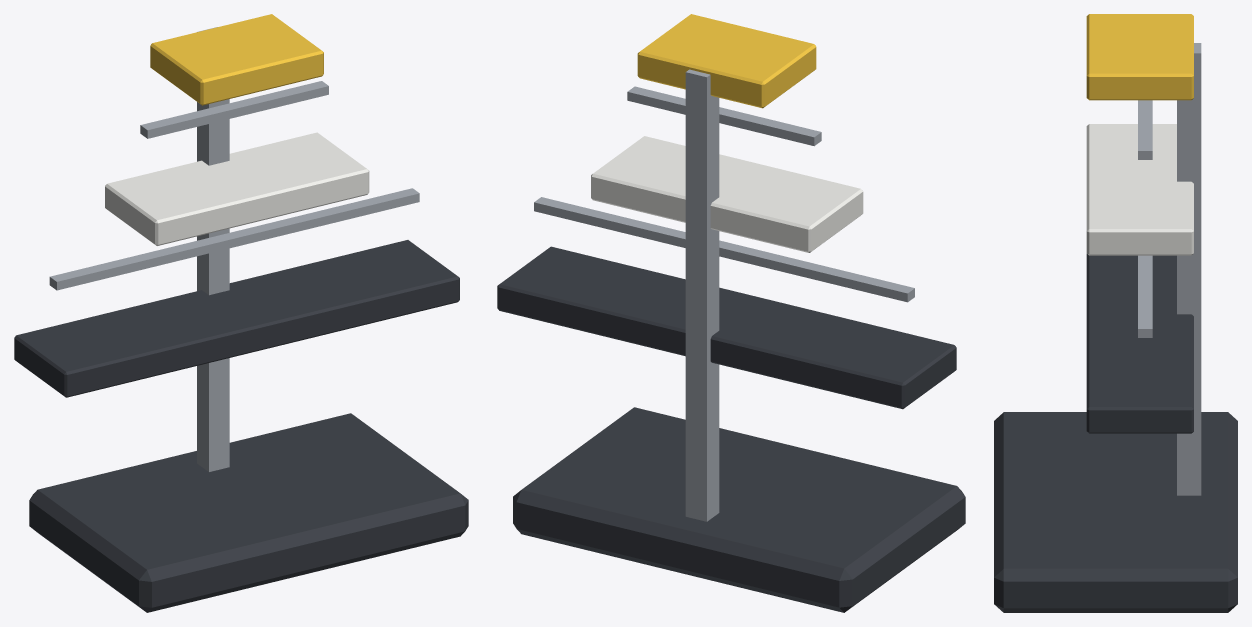
The model's file is delegation_3.glb.
The picture shows the model from 3 angles, left to right: view 1: azimuth 30°, elevation 25°; view 2: azimuth 150°, elevation 25°; view 3: azimuth 270°, elevation 25°; orthographic projection. The views are drawn at different scales.
Parts seen in each view (by area): view 1: delegation_3_mesh; view 2: delegation_3_mesh; view 3: delegation_3_mesh.
Boxes of the visible parts, bbox=[...] form: delegation_3_mesh: bbox=[14, 14, 468, 612]; delegation_3_mesh: bbox=[497, 14, 965, 612]; delegation_3_mesh: bbox=[994, 14, 1237, 612].
Size of the model in its own units: 0.96 by 1.11 by 0.5.
